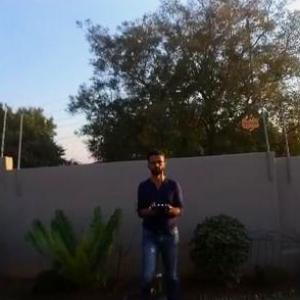follow: (120, 146, 185, 299)
